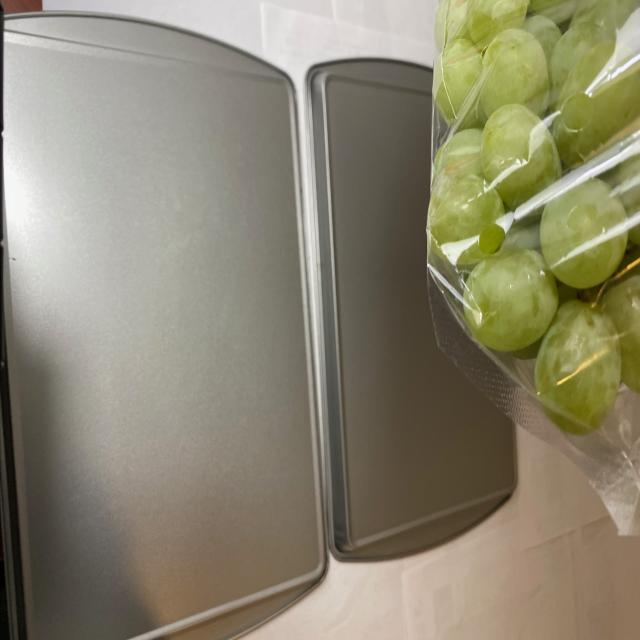grapes: (418, 2, 635, 447)
